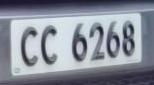2: (89, 16, 106, 69)
6: (70, 18, 91, 69), (106, 16, 122, 65)
8: (121, 17, 138, 63)
C: (18, 21, 42, 73), (39, 20, 63, 71)
